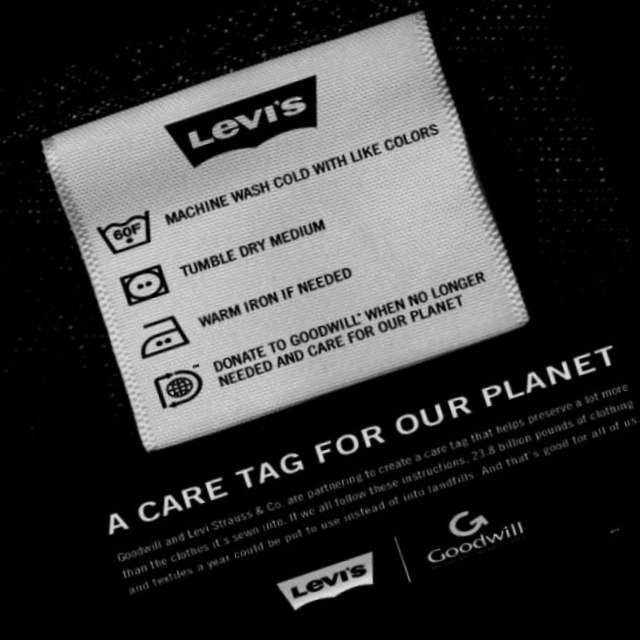30C: (90, 199, 165, 264)
iron_medium: (126, 305, 198, 367)
tumble_dry_medium: (111, 258, 179, 314)
